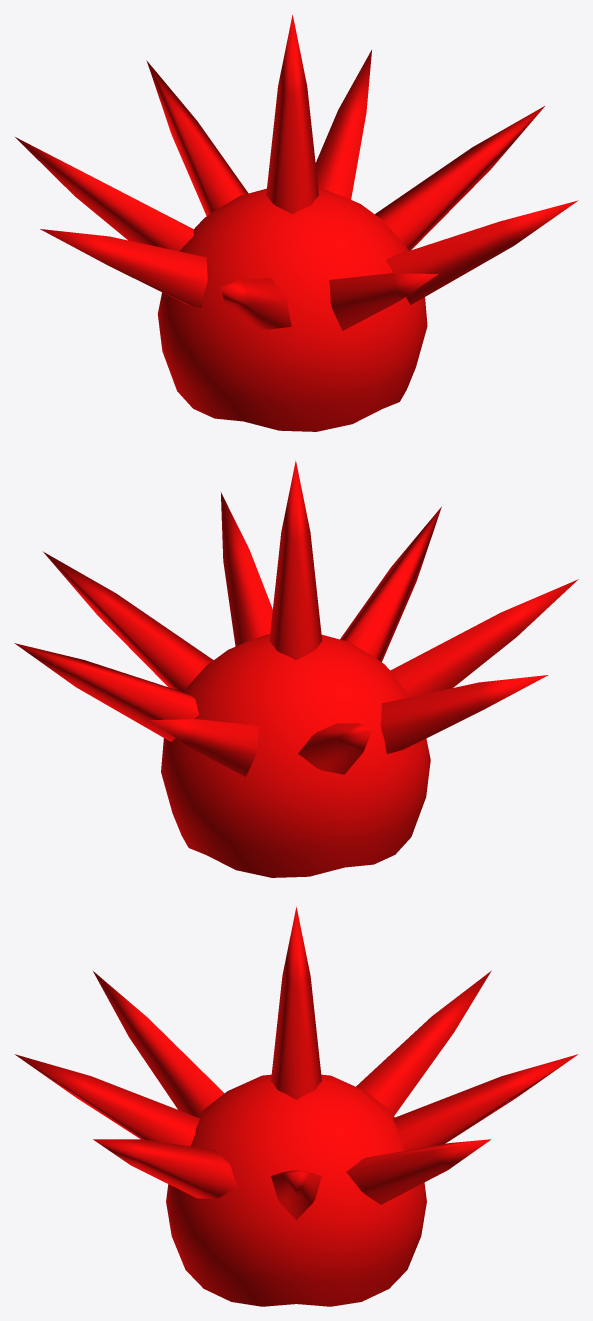
The model's file is bomb.obj.
The picture shows the model from 3 angles, top to bottom: view 1: azimuth 30°, elevation 25°; view 2: azimuth 150°, elevation 25°; view 3: azimuth 270°, elevation 25°; orthographic projection. The views are drawn at different scales.
Parts seen in each view (by area): view 1: ColobotMesh_1_ColobotMesh_.002, Spikes_ColobotMesh_.003; view 2: ColobotMesh_1_ColobotMesh_.002, Spikes_ColobotMesh_.003; view 3: ColobotMesh_1_ColobotMesh_.002, Spikes_ColobotMesh_.003.
Boxes of the visible parts, left/top/right/bottom form: ColobotMesh_1_ColobotMesh_.002: left=157, top=188, right=427, bottom=431; Spikes_ColobotMesh_.003: left=15, top=15, right=578, bottom=330; ColobotMesh_1_ColobotMesh_.002: left=161, top=634, right=430, bottom=877; Spikes_ColobotMesh_.003: left=14, top=460, right=578, bottom=776; ColobotMesh_1_ColobotMesh_.002: left=166, top=1074, right=426, bottom=1306; Spikes_ColobotMesh_.003: left=14, top=906, right=578, bottom=1219.
Size of the model in its own units: 8.66 by 6.05 by 8.66.
